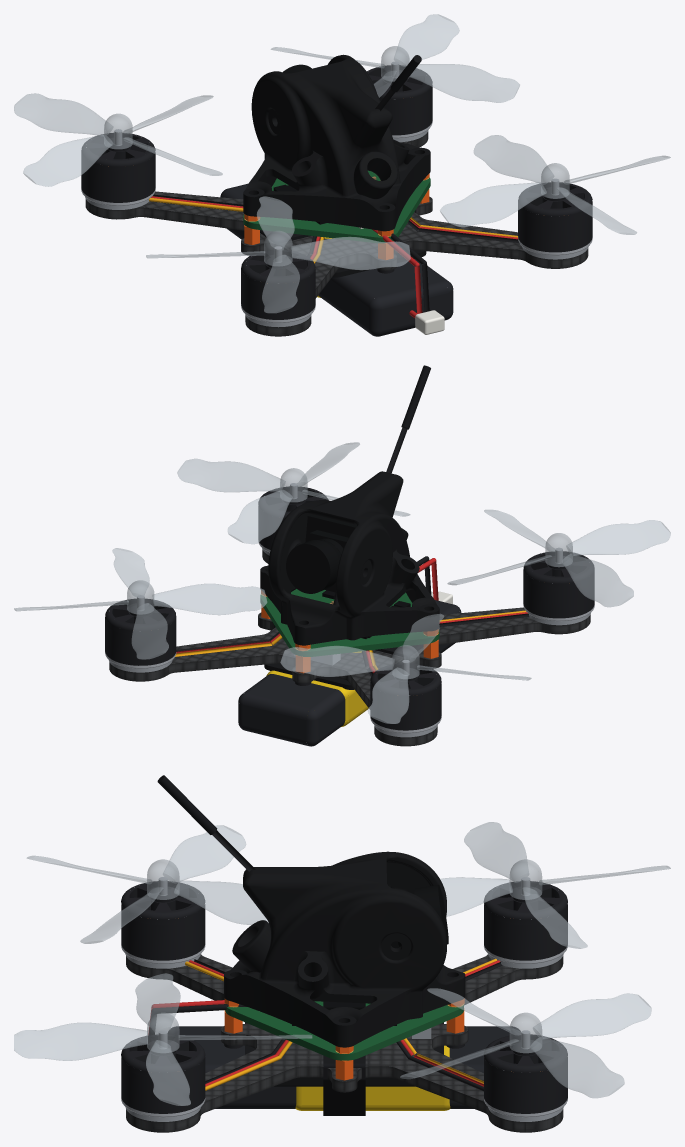
The model's file is frame-1.glb.
3 renders of one model, top to bottom at view 1: azimuth 30°, elevation 25°; view 2: azimuth 150°, elevation 25°; view 3: azimuth 270°, elevation 25°, orthographic. The views are drawn at different scales.
Visible parts, largest first — view 1: canopy, frame, battery, propeller_front_left, propeller_rear_right, propeller_rear_left, motor_rear_right, propeller_front_right, motor_front_left, motor_rear_left, flight_controller, motor_front_right (+1 smaller); view 2: canopy, frame, battery, propeller_rear_left, propeller_front_left, propeller_front_right, propeller_rear_right, motor_front_right, motor_rear_left, motor_front_left, flight_controller, camera (+2 smaller); view 3: canopy, frame, propeller_front_right, propeller_rear_right, motor_rear_right, motor_front_right, propeller_rear_left, propeller_front_left, motor_rear_left, motor_front_left, battery, flight_controller (+3 smaller).
Part boxes in pixels (left/top/right/bottom): canopy: left=243, top=54, right=430, bottom=231; frame: left=85, top=131, right=588, bottom=336; battery: left=220, top=183, right=453, bottom=336; propeller_front_left: left=14, top=93, right=222, bottom=186; propeller_rear_right: left=440, top=135, right=670, bottom=234; propeller_rear_left: left=146, top=196, right=410, bottom=313; motor_rear_right: left=407, top=178, right=592, bottom=259; propeller_front_right: left=271, top=14, right=519, bottom=102; motor_front_left: left=81, top=129, right=243, bottom=211; motor_rear_left: left=241, top=236, right=324, bottom=327; flight_controller: left=243, top=170, right=430, bottom=313; motor_front_right: left=366, top=61, right=432, bottom=142; canopy: left=260, top=471, right=439, bottom=645; frame: left=109, top=550, right=590, bottom=746; battery: left=238, top=591, right=461, bottom=746; propeller_rear_left: left=447, top=509, right=670, bottom=607; propeller_front_left: left=280, top=613, right=531, bottom=723; propeller_front_right: left=14, top=548, right=267, bottom=659; propeller_rear_right: left=177, top=442, right=410, bottom=544; motor_front_right: left=105, top=595, right=282, bottom=672; motor_rear_left: left=439, top=547, right=594, bottom=626; motor_front_left: left=362, top=650, right=441, bottom=737; flight_controller: left=260, top=556, right=439, bottom=685; camera: left=286, top=514, right=356, bottom=605; canopy: left=224, top=851, right=465, bottom=1047; frame: left=126, top=954, right=563, bottom=1132; propeller_front_right: left=400, top=988, right=651, bottom=1098; propeller_rear_right: left=14, top=973, right=312, bottom=1105; motor_rear_right: left=121, top=1030, right=292, bottom=1121; motor_front_right: left=396, top=1030, right=567, bottom=1121; propeller_rear_left: left=27, top=825, right=268, bottom=943; propeller_front_left: left=440, top=822, right=670, bottom=948; motor_rear_left: left=121, top=877, right=224, bottom=981; motor_front_left: left=463, top=877, right=567, bottom=980; battery: left=121, top=1026, right=520, bottom=1110; flight_controller: left=148, top=998, right=464, bottom=1080.
Size of the model in its own units: 0.1089 by 0.0589 by 0.1089.
Materials: 22 (1 with a texture image).
